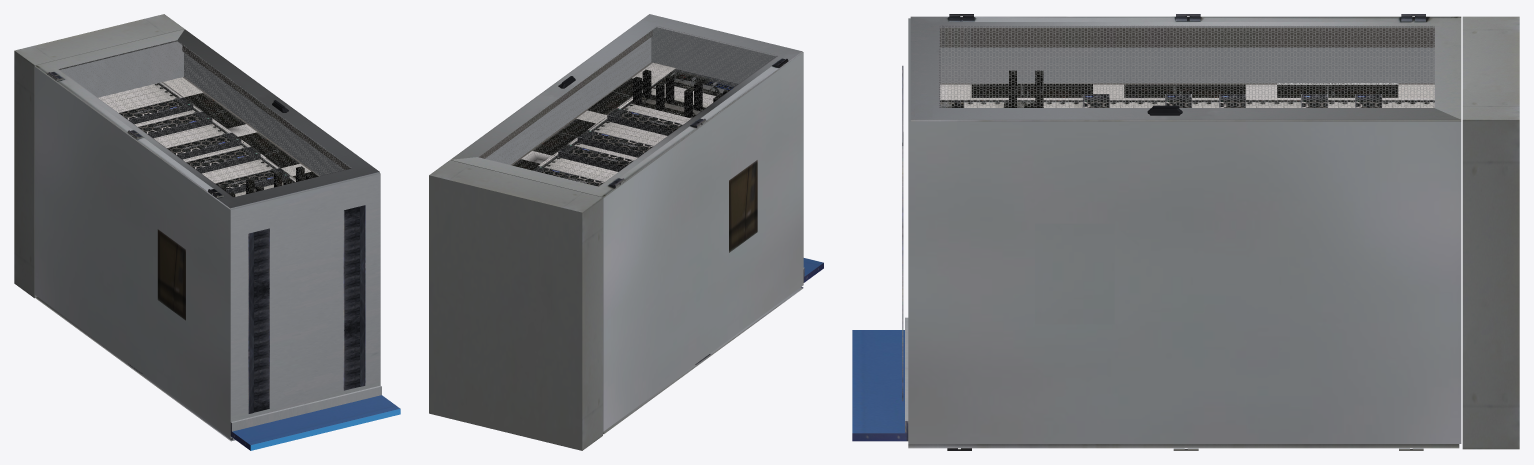
Rendered from set8A_all_bluebox_1223.obj.
3 views of the same model, side by side, from view 1: azimuth 30°, elevation 25°; view 2: azimuth 150°, elevation 25°; view 3: azimuth 270°, elevation 25° (orthographic). The views are drawn at different scales.
Parts seen in each view (by area): view 1: SET8A_all; view 2: SET8A_all; view 3: SET8A_all.
Boxes of the visible parts, x1,y1,x2,y2 form: SET8A_all: (14, 14, 400, 450); SET8A_all: (429, 14, 823, 450); SET8A_all: (852, 14, 1519, 450).
Bounding box in the file's own units: 0.08 × 0.1232 × 0.2185.
